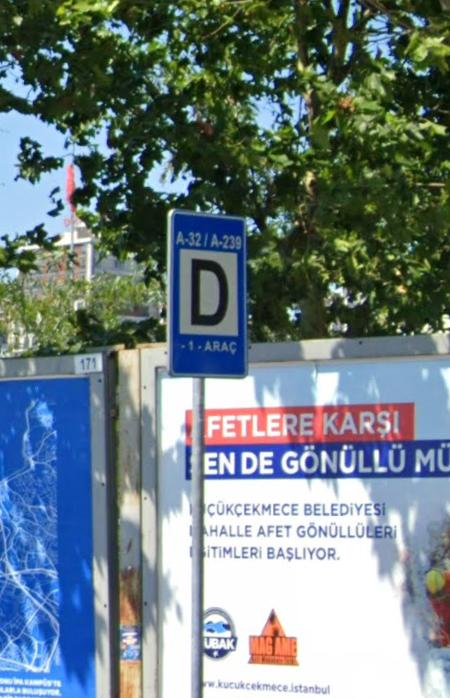station: (173, 215, 244, 339)
